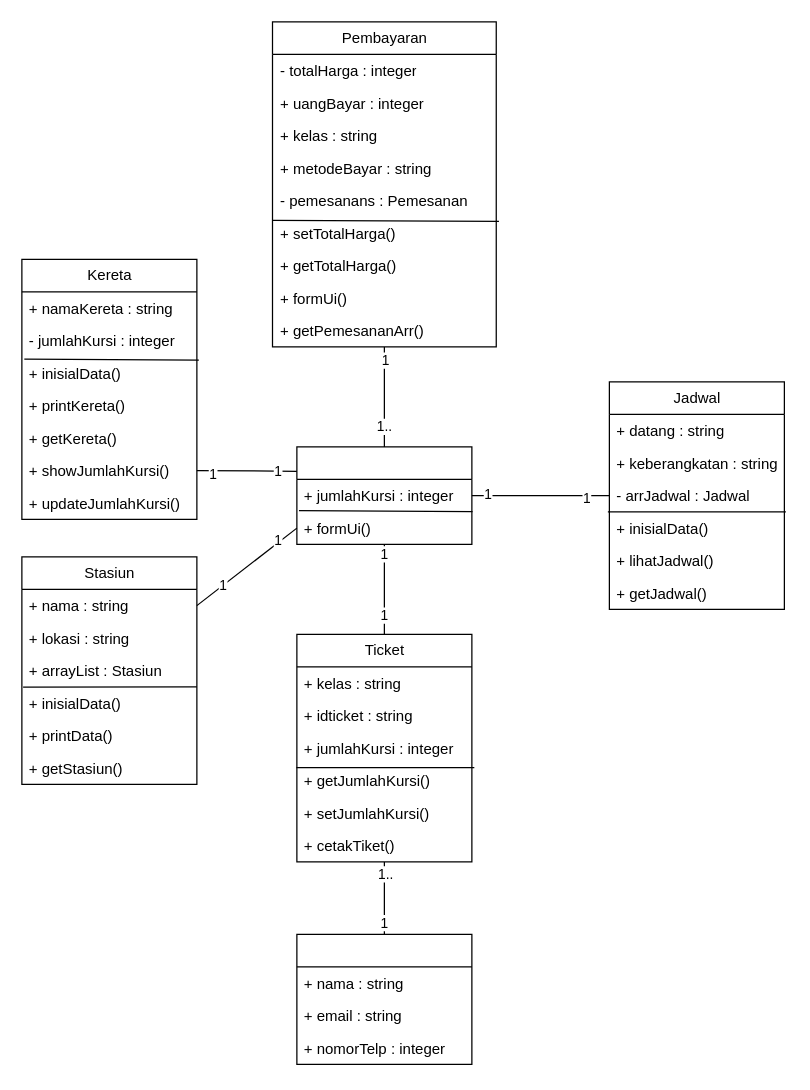
This 810x1090 diagram has some shape labels left out. The box of each missing label's shape, as (x1, y1, x2, y2) in pixels:
Pelanggan: (296, 933, 472, 1064)
Pemesanan: (296, 446, 472, 544)
